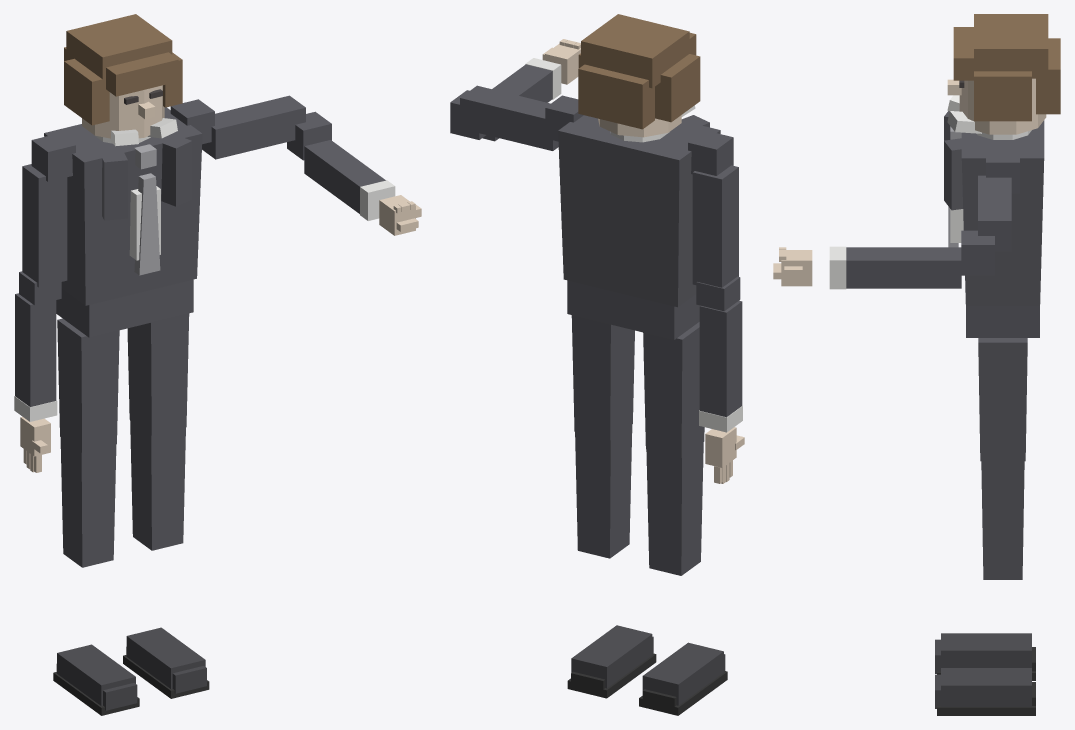
The model's file is avatar-businessman.glb.
The picture shows the model from 3 angles, left to right: view 1: azimuth 30°, elevation 25°; view 2: azimuth 150°, elevation 25°; view 3: azimuth 270°, elevation 25°; orthographic projection. The views are drawn at different scales.
Visible parts, largest first — view 1: AVT_BM_Suit_Jacket, AVT_BM_Suit_Thigh_L, AVT_BM_Suit_Thigh_R, AVT_BM_Suit_Shin_R, AVT_BM_Suit_Shin_L, AVT_BM_Suit_Upper_L, AVT_BM_Suit_Waist, AVT_BM_Suit_Fore_L, AVT_BM_Head_Hair_Top, AVT_BM_Suit_Upper_R, AVT_BM_Suit_Fore_R, AVT_BM_Shoes_Foot_R (+20 smaller); view 2: AVT_BM_Suit_Jacket, AVT_BM_Suit_Thigh_R, AVT_BM_Suit_Thigh_L, AVT_BM_Suit_Shin_L, AVT_BM_Suit_Shin_R, AVT_BM_Suit_Upper_L, AVT_BM_Head_Hair_Top, AVT_BM_Suit_Fore_L, AVT_BM_Suit_Waist, AVT_BM_Suit_Upper_R, AVT_BM_Head_Hair_Back, AVT_BM_Shoes_Foot_R (+15 smaller); view 3: AVT_BM_Suit_Jacket, AVT_BM_Suit_Thigh_R, AVT_BM_Suit_Shin_R, AVT_BM_Suit_Fore_R, AVT_BM_Head_Hair_Top, AVT_BM_Shoes_Foot_R, AVT_BM_Shoes_Foot_L, AVT_BM_Head_Hair_R, AVT_BM_Suit_Waist, AVT_BM_Suit_Upper_R, AVT_BM_Head_Skull, AVT_BM_Suit_Elbow_R (+8 smaller).
Boxes of the visible parts, x1,y1,x2,y2 form: AVT_BM_Suit_Jacket: [44, 107, 202, 305]; AVT_BM_Suit_Thigh_L: [57, 318, 119, 452]; AVT_BM_Suit_Thigh_R: [127, 313, 189, 435]; AVT_BM_Suit_Shin_R: [130, 420, 185, 550]; AVT_BM_Suit_Shin_L: [60, 437, 116, 567]; AVT_BM_Suit_Upper_L: [22, 164, 67, 287]; AVT_BM_Suit_Waist: [56, 279, 193, 337]; AVT_BM_Suit_Fore_L: [15, 293, 56, 406]; AVT_BM_Head_Hair_Top: [66, 14, 172, 85]; AVT_BM_Suit_Upper_R: [202, 95, 305, 159]; AVT_BM_Suit_Fore_R: [304, 140, 385, 213]; AVT_BM_Shoes_Foot_R: [126, 627, 205, 688]; AVT_BM_Suit_Jacket: [558, 115, 720, 307]; AVT_BM_Suit_Thigh_R: [571, 315, 634, 440]; AVT_BM_Suit_Thigh_L: [643, 322, 704, 457]; AVT_BM_Suit_Shin_L: [646, 442, 703, 575]; AVT_BM_Suit_Shin_R: [575, 425, 632, 558]; AVT_BM_Suit_Upper_L: [692, 165, 738, 287]; AVT_BM_Head_Hair_Top: [581, 14, 689, 88]; AVT_BM_Suit_Fore_L: [699, 300, 742, 417]; AVT_BM_Suit_Waist: [567, 280, 699, 339]; AVT_BM_Suit_Upper_R: [460, 85, 558, 150]; AVT_BM_Head_Hair_Back: [578, 64, 654, 129]; AVT_BM_Shoes_Foot_R: [571, 625, 652, 688]; AVT_BM_Suit_Jacket: [961, 120, 1044, 305]; AVT_BM_Suit_Thigh_R: [978, 338, 1027, 461]; AVT_BM_Suit_Shin_R: [981, 461, 1024, 579]; AVT_BM_Suit_Fore_R: [846, 247, 961, 288]; AVT_BM_Head_Hair_Top: [974, 14, 1048, 78]; AVT_BM_Shoes_Foot_R: [941, 668, 1031, 706]; AVT_BM_Shoes_Foot_L: [941, 633, 1031, 667]; AVT_BM_Head_Hair_R: [974, 71, 1031, 121]; AVT_BM_Suit_Waist: [966, 306, 1039, 337]; AVT_BM_Suit_Upper_R: [978, 175, 1011, 251]; AVT_BM_Head_Skull: [959, 78, 1046, 134]; AVT_BM_Suit_Elbow_R: [961, 230, 994, 275].
Bounding box in the file's own units: 0.83 × 1.76 × 0.697.
